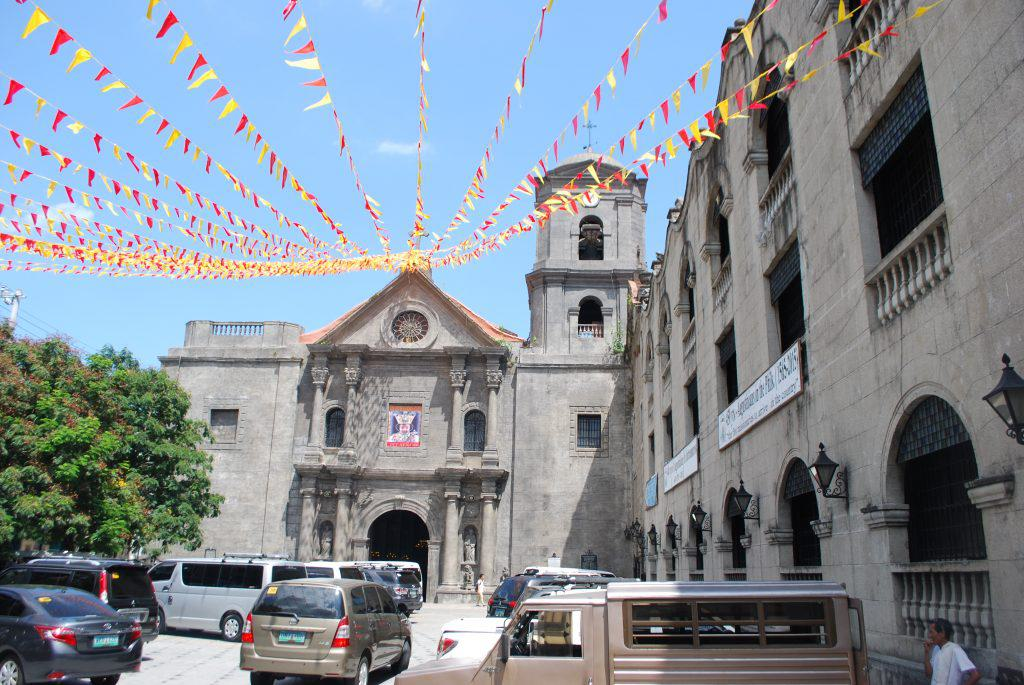Environmental Damage: (607, 331, 639, 361)
San Agustin Church: (292, 110, 639, 579)
